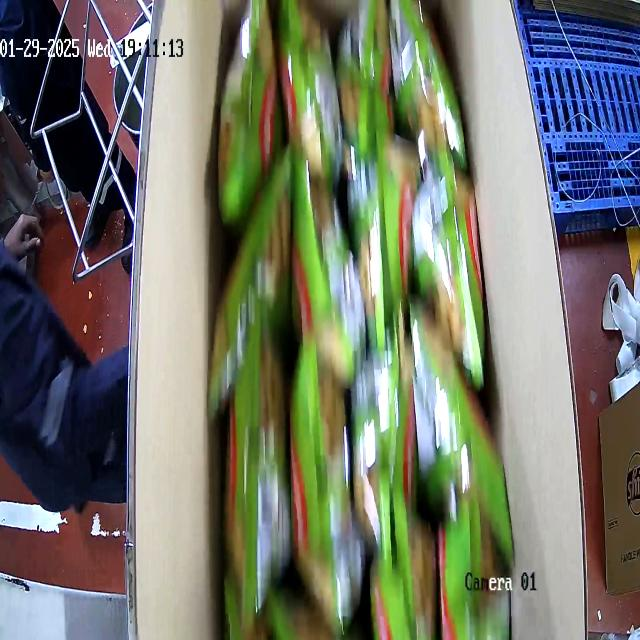YOGURT_HERB: (207, 0, 515, 638)
